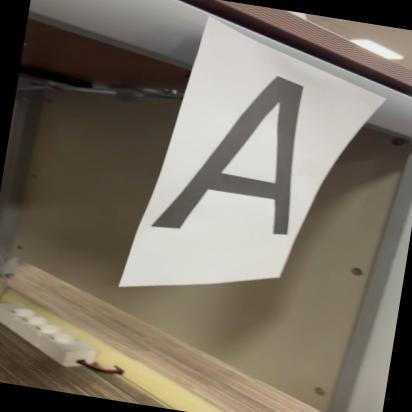seat: (153, 54, 333, 254)
